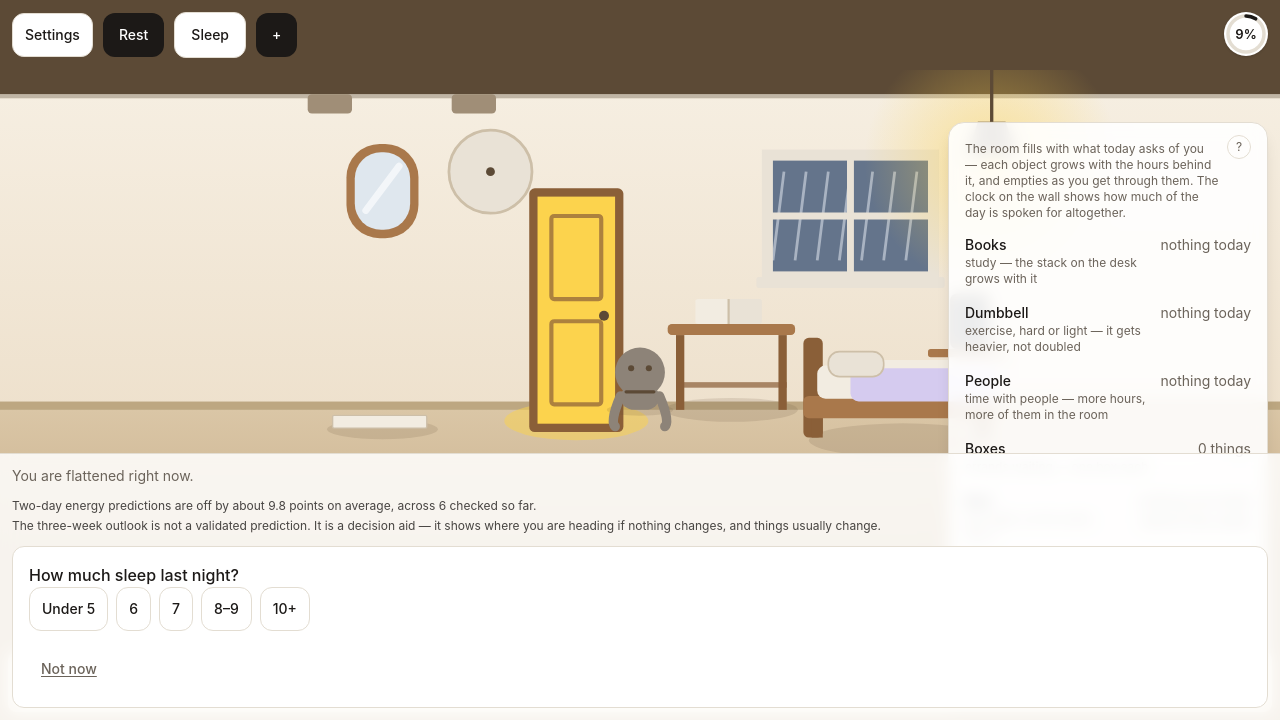
Scenario: the low-energy override, reachable from the settings sheet › offers a way back to the inferred setting
Click the button with test id "open-settings" at (52, 35), box [12,13,93,57]
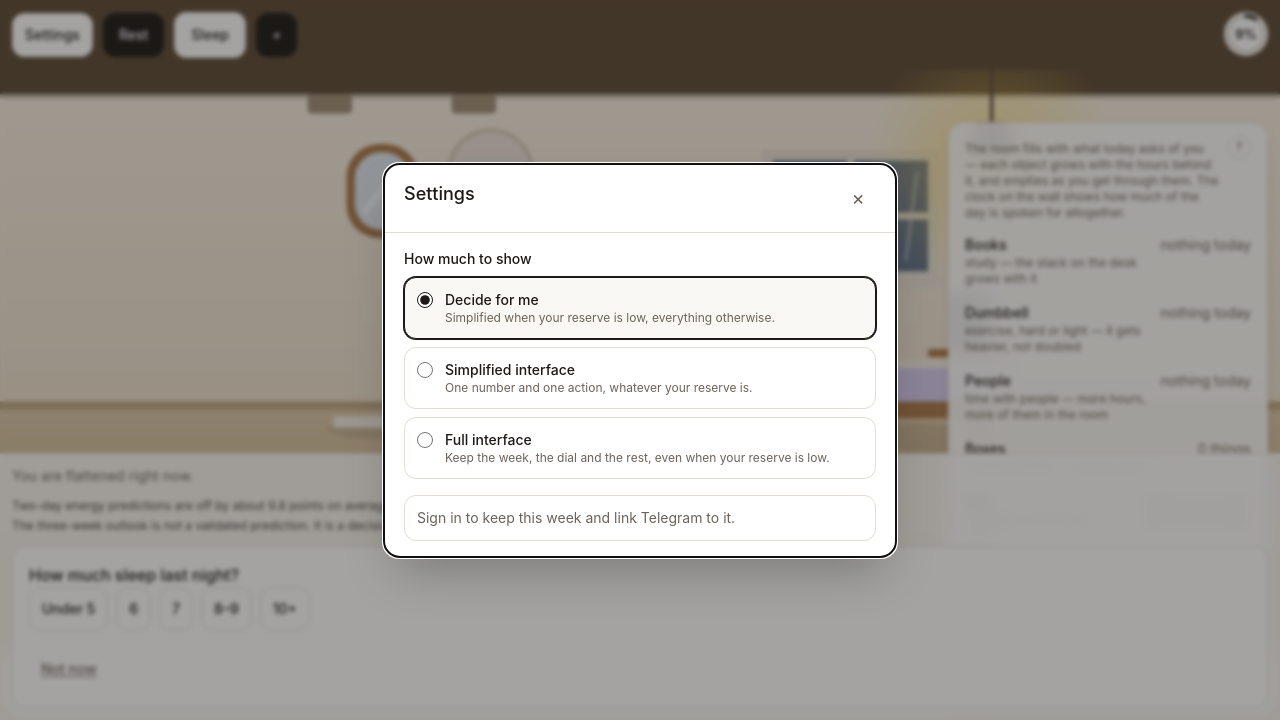
Click the radio button labelled "Full interface" at (425, 440), box [417,432,433,448]
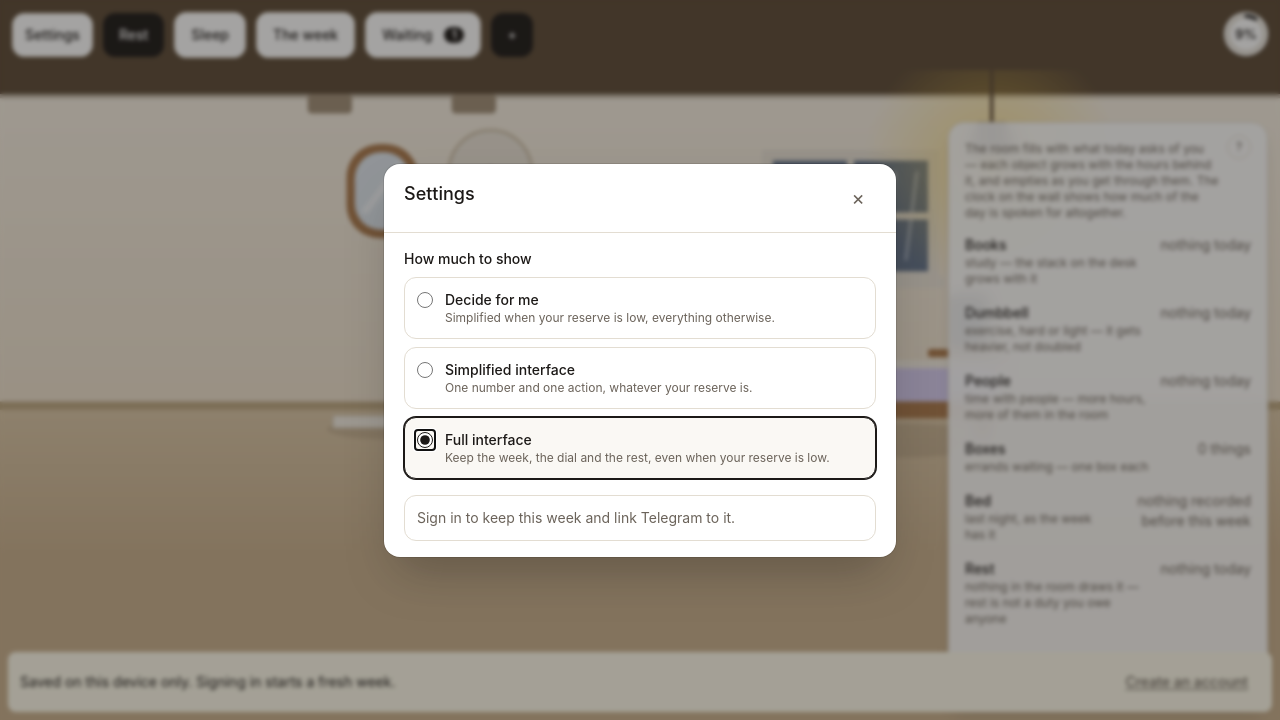
Expected: the button with test id "open-week" is shown, [256,12,355,58]
Click the radio button labelled "Decide for me" at (425, 300), box [417,292,433,308]
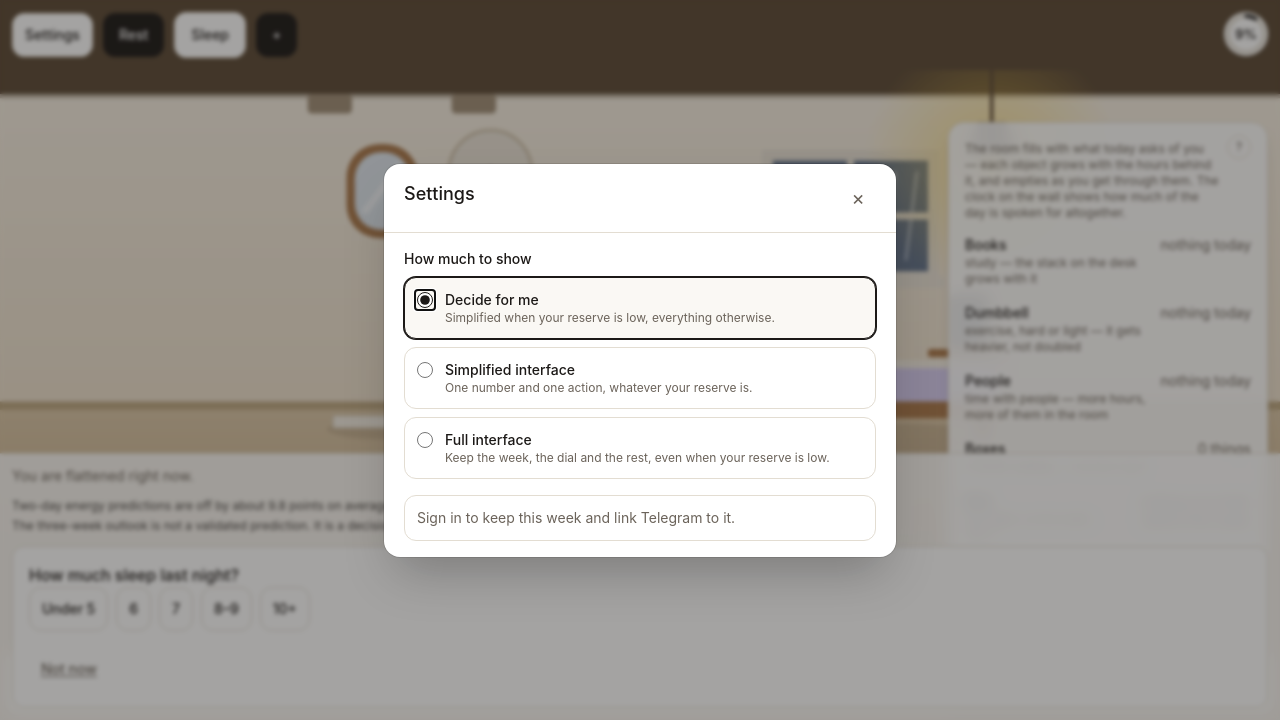
Expected: the button with test id "open-week" is gone
